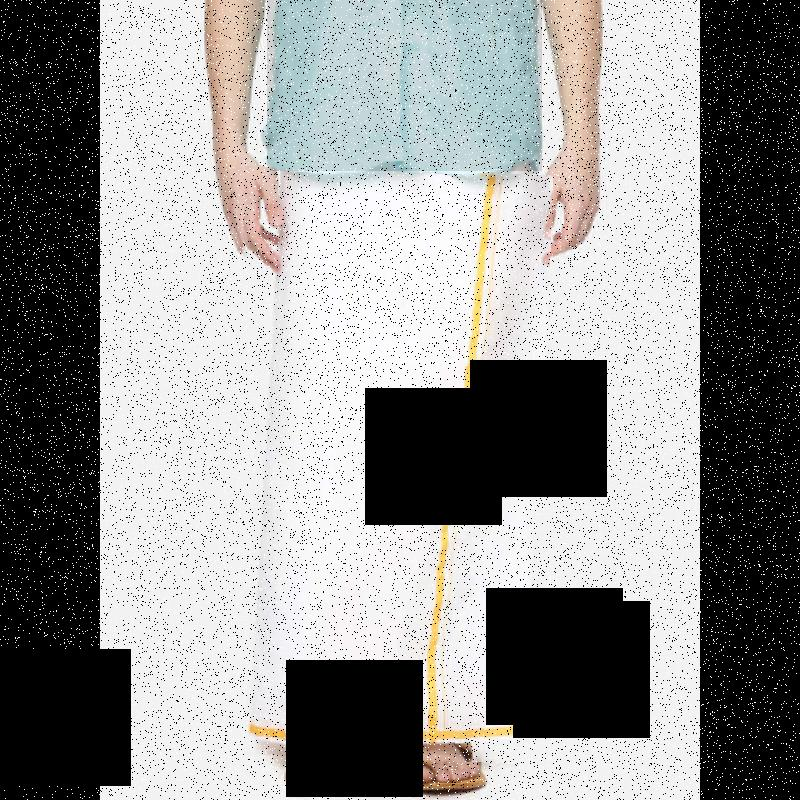Dhoti: (225, 167, 552, 753)
shirt: (267, 0, 541, 171)
